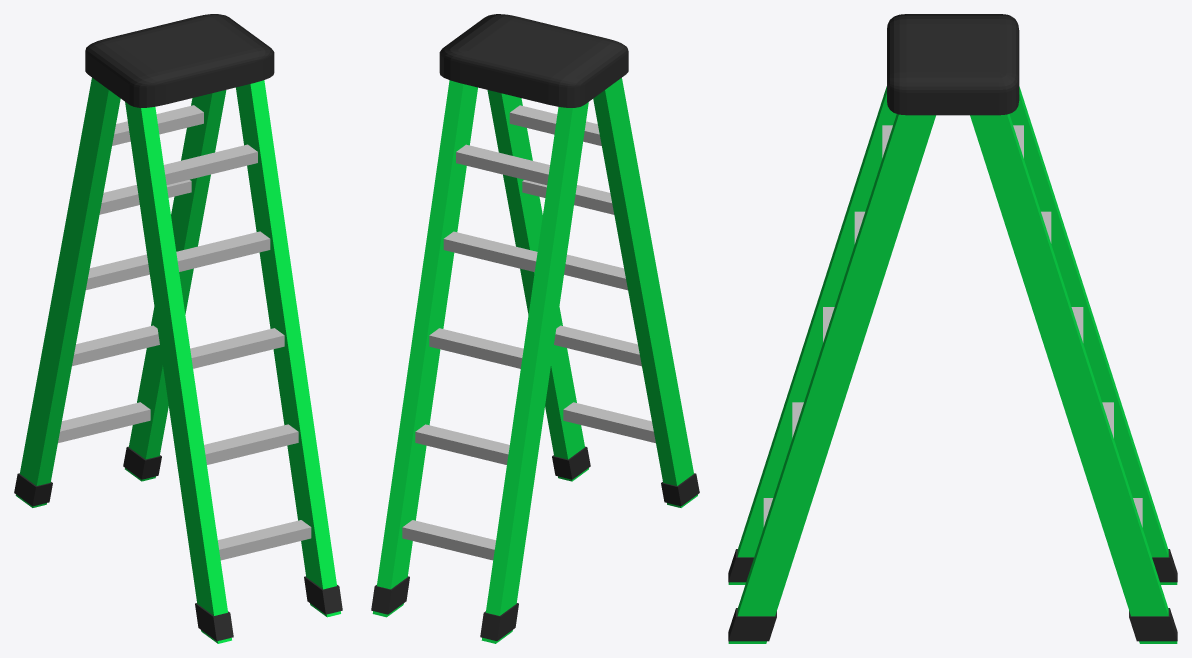
Rendered from escalera.glb.
3 renders of one model, left to right at view 1: azimuth 30°, elevation 25°; view 2: azimuth 150°, elevation 25°; view 3: azimuth 270°, elevation 25°, orthographic. The views are drawn at different scales.
Parts seen in each view (by area): view 1: Box037, Box034, Box028, Box032, Box021, Box026, Box035, Box022, Box027, Box025, Box029, Box030 (+7 smaller); view 2: Box028, Box021, Box037, Box032, Box034, Box030, Box036, Box031, Box033, Box029, Box025, Box026 (+7 smaller); view 3: Box021, Box034, Box032, Box037, Box028, Box023, Box039.
Boxes of the visible parts, left/top/right/bottom form: Box037: left=125, top=102, right=231, bottom=643; Box034: left=236, top=80, right=340, bottom=617; Box028: left=15, top=77, right=120, bottom=507; Box032: left=85, top=14, right=274, bottom=107; Box021: left=125, top=90, right=226, bottom=481; Box026: left=204, top=424, right=298, bottom=464; Box035: left=190, top=328, right=284, bottom=368; Box022: left=176, top=231, right=270, bottom=271; Box027: left=164, top=144, right=257, bottom=184; Box025: left=218, top=520, right=311, bottom=560; Box029: left=58, top=402, right=150, bottom=442; Box030: left=72, top=325, right=159, bottom=366; Box028: left=481, top=102, right=588, bottom=643; Box021: left=372, top=80, right=477, bottom=617; Box037: left=593, top=78, right=697, bottom=507; Box032: left=439, top=14, right=628, bottom=107; Box034: left=487, top=90, right=588, bottom=481; Box030: left=415, top=424, right=509, bottom=464; Box036: left=429, top=328, right=523, bottom=368; Box031: left=443, top=231, right=537, bottom=271; Box033: left=456, top=144, right=549, bottom=185; Box029: left=402, top=520, right=495, bottom=560; Box025: left=563, top=402, right=655, bottom=443; Box026: left=554, top=325, right=641, bottom=366; Box021: left=970, top=114, right=1177, bottom=643; Box034: left=728, top=114, right=935, bottom=643; Box032: left=887, top=14, right=1019, bottom=115; Box037: left=728, top=86, right=896, bottom=584; Box028: left=1009, top=86, right=1177, bottom=584; Box023: left=1129, top=608, right=1177, bottom=641; Box039: left=728, top=608, right=776, bottom=641.
Size of the model in its own units: 109818 by 373107 by 269821.
